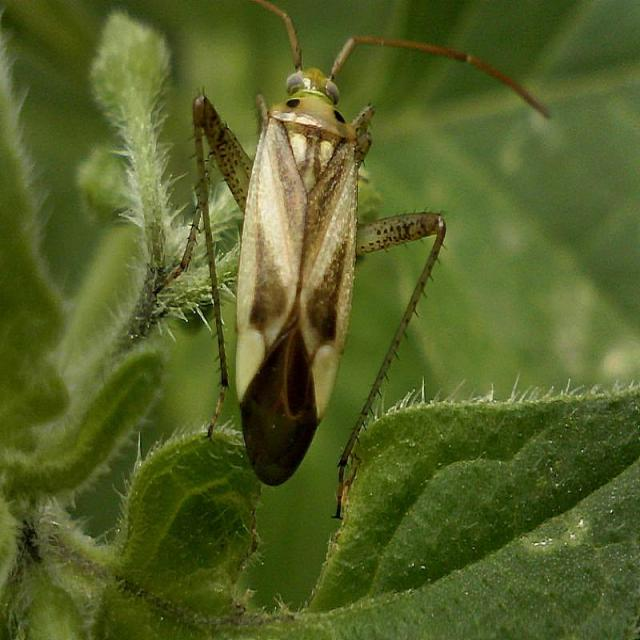Miridae-Adult-: (184, 3, 535, 516)
